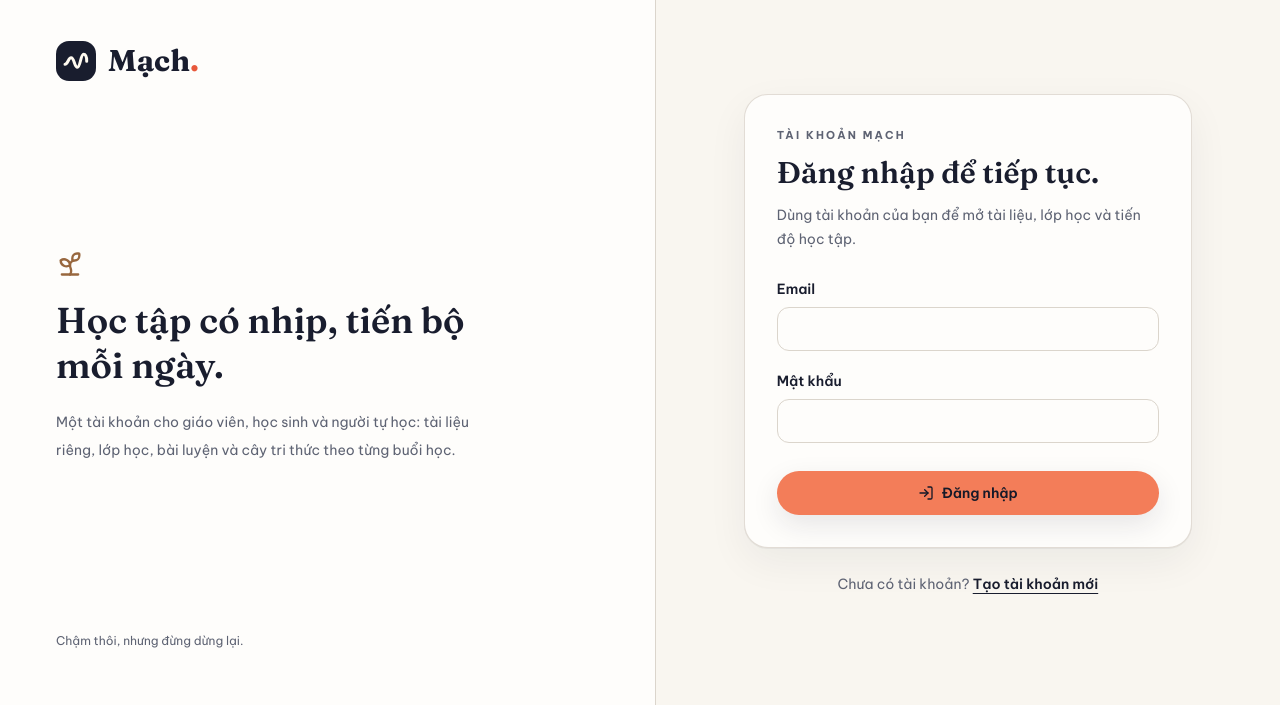
auth UI › returns to an internal next route after login
This screenshot has width=1280, height=705.
In the field labelled "Email": (968, 329) [777,307,1159,351], type "student@example.com"
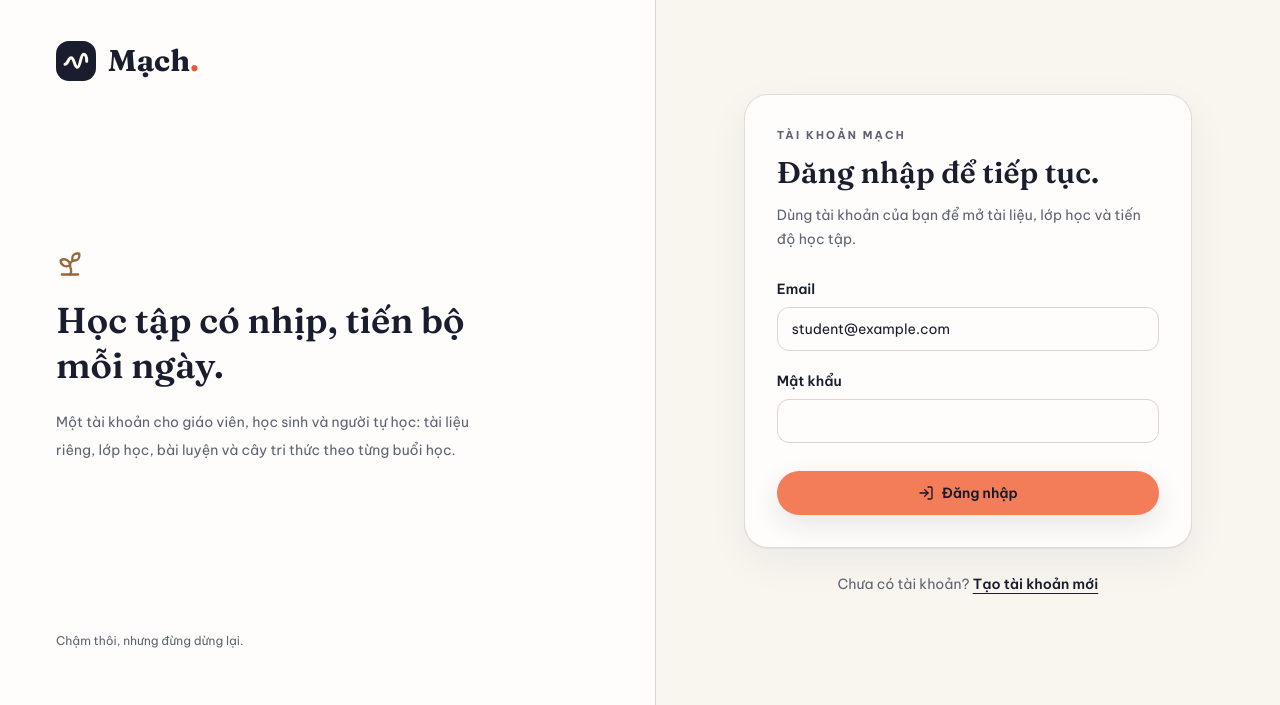
In the password field labelled "Mật khẩu": (968, 421) [777,399,1159,443], type "matkhau-rat-dai-123"
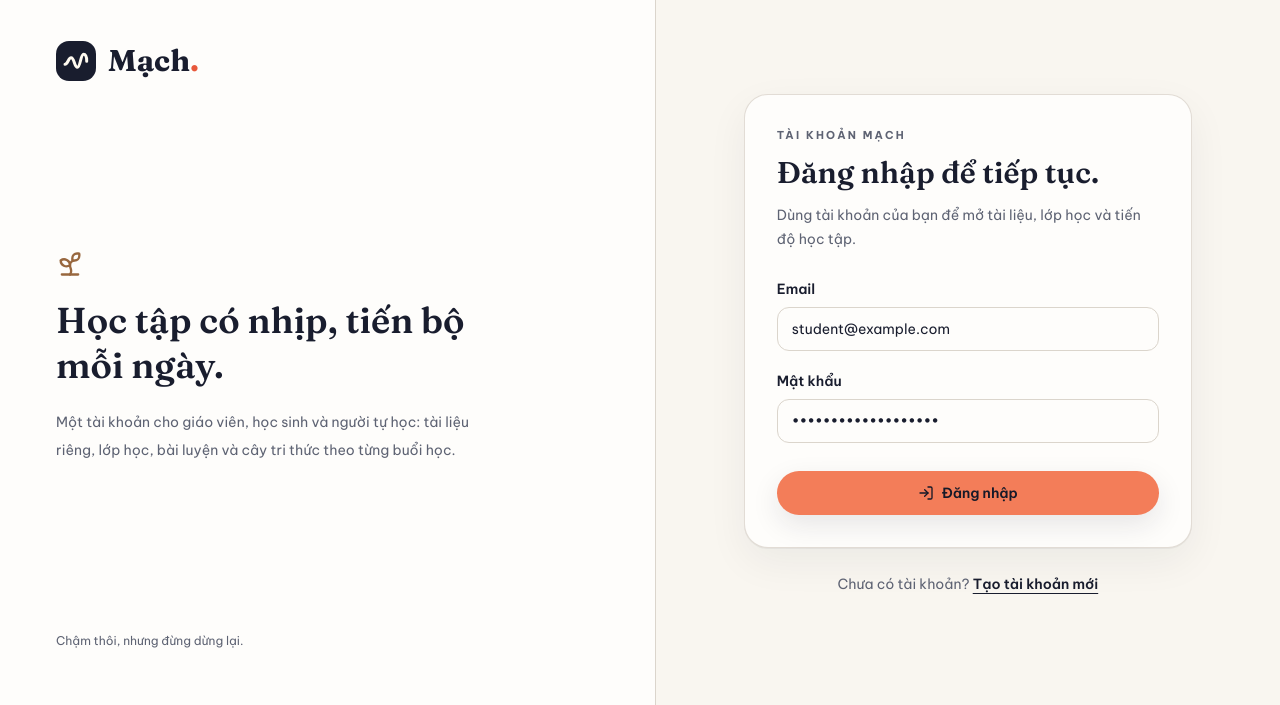
Click the button "Đăng nhập": (968, 493) [777,471,1159,515]
(page scrolled)
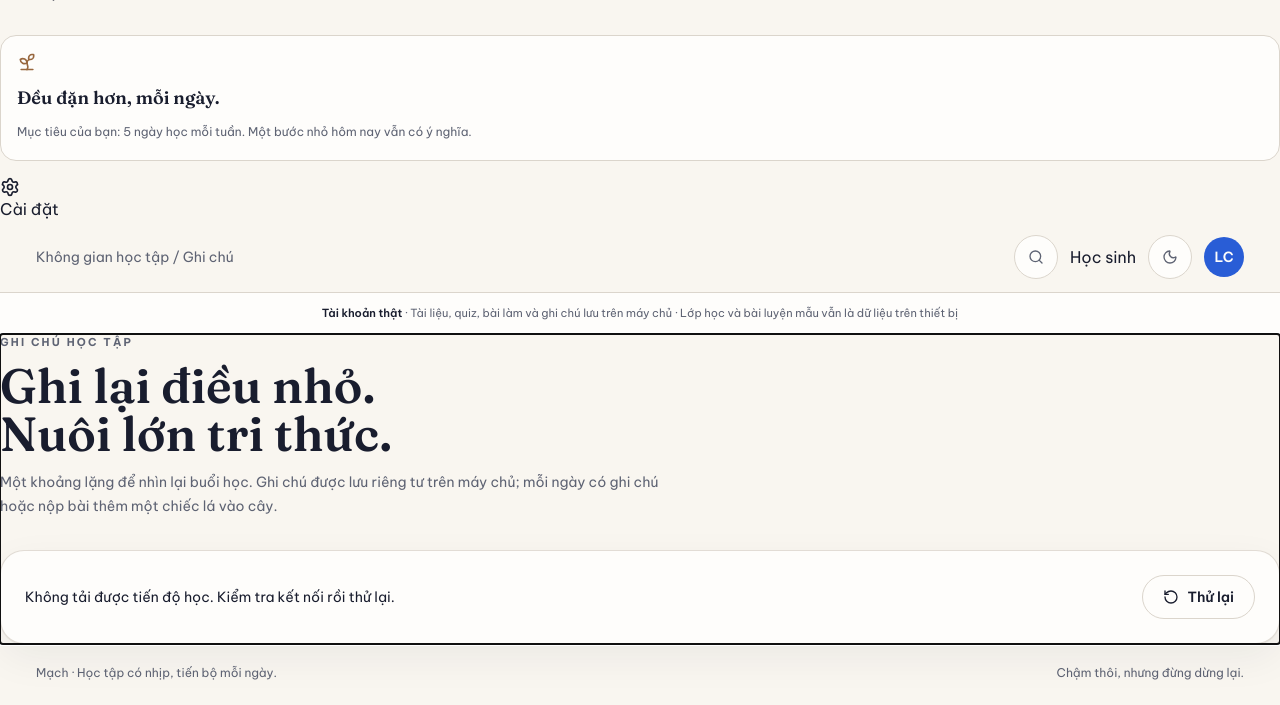
expect the heading "Ghi lại điều nhỏ. Nuôi lớn tri thức." is shown: met, box [0,356,392,463]
